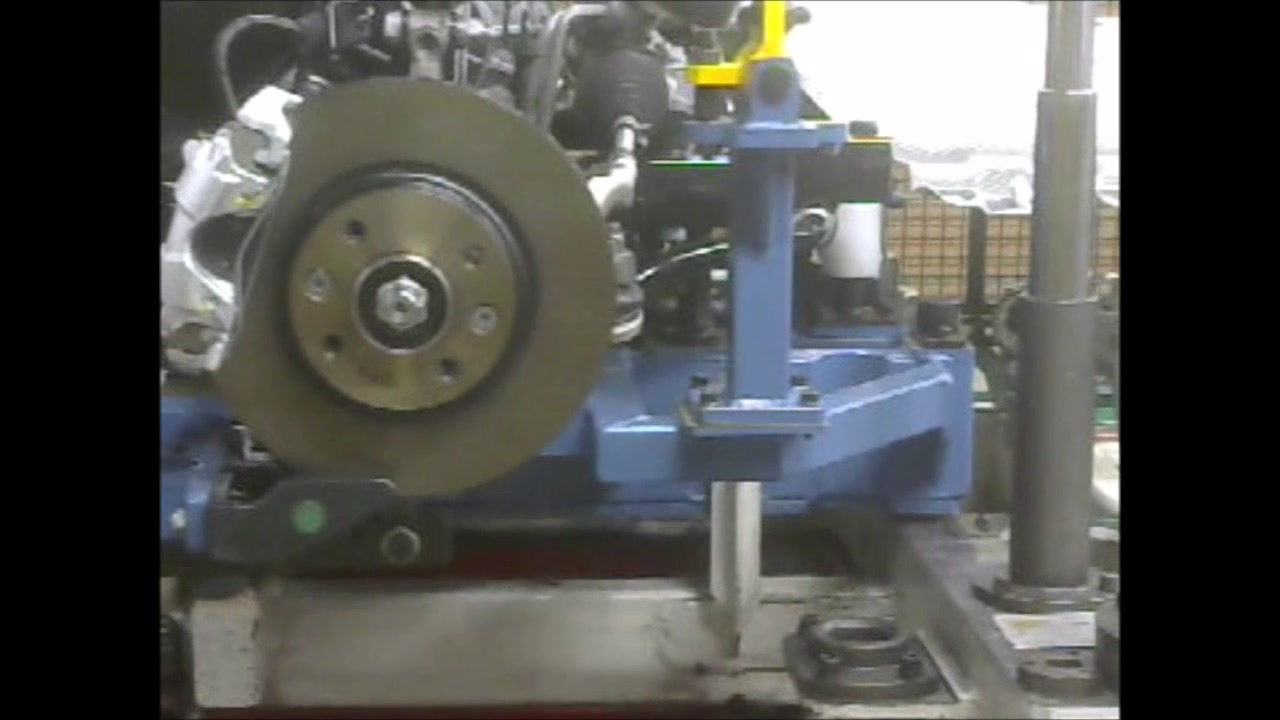DD2: (296, 76, 621, 497)
P2: (162, 81, 306, 385)
